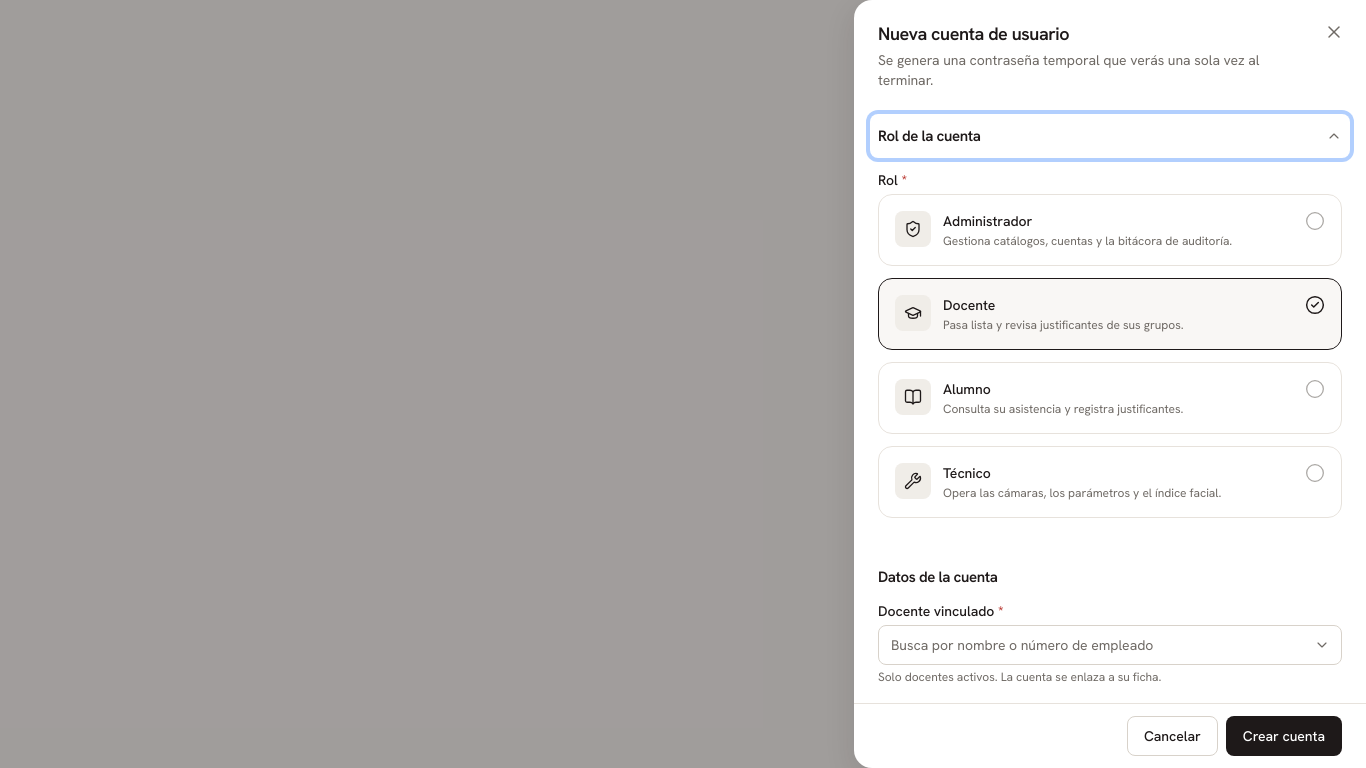
Scenario: CrearUsuarioDialog › cambiar a un rol sin vínculo oculta el selector y quita el correo sugerido
Click the dropdown at coordinates (1110, 644), box [878,624,1342,664]
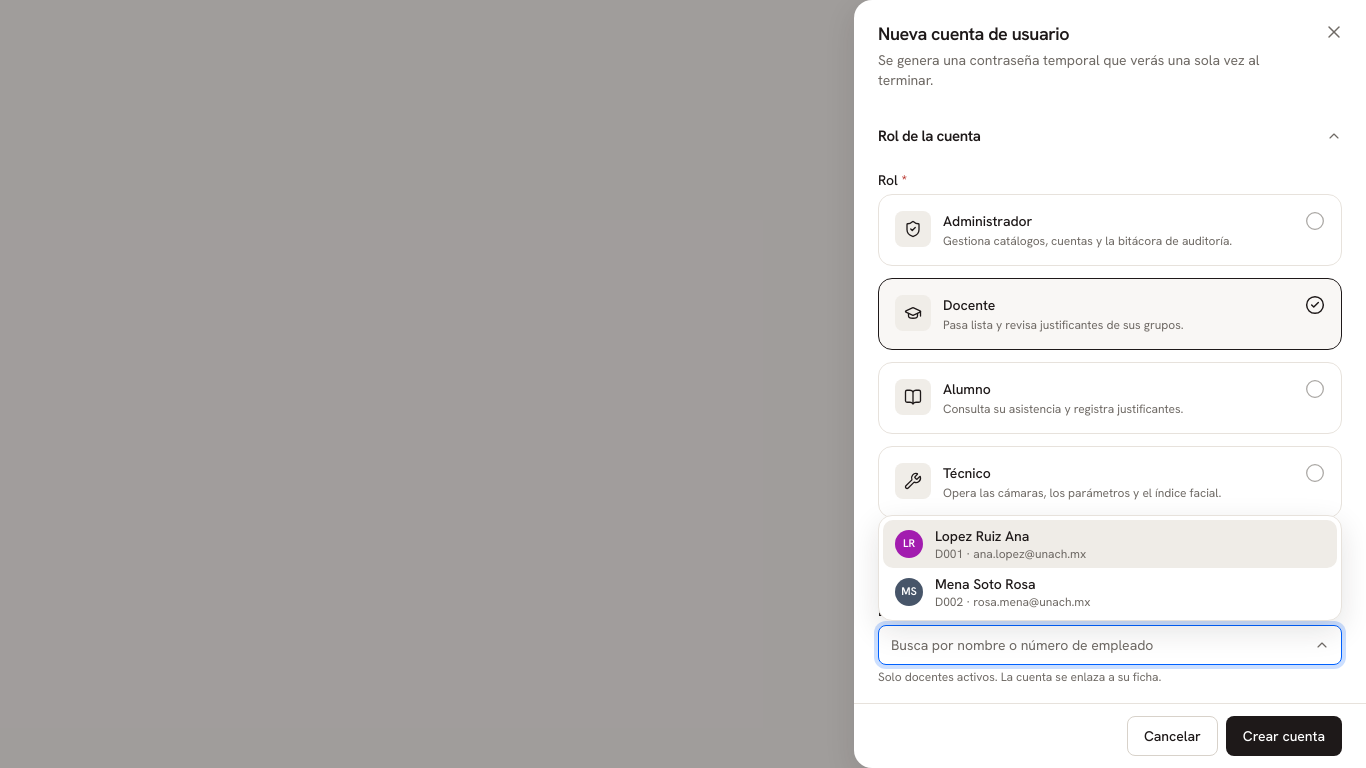
Click the option "LR Lopez Ruiz Ana D001 · ana.lopez@unach.mx" at coordinates (982, 536), box [883,520,1337,568]
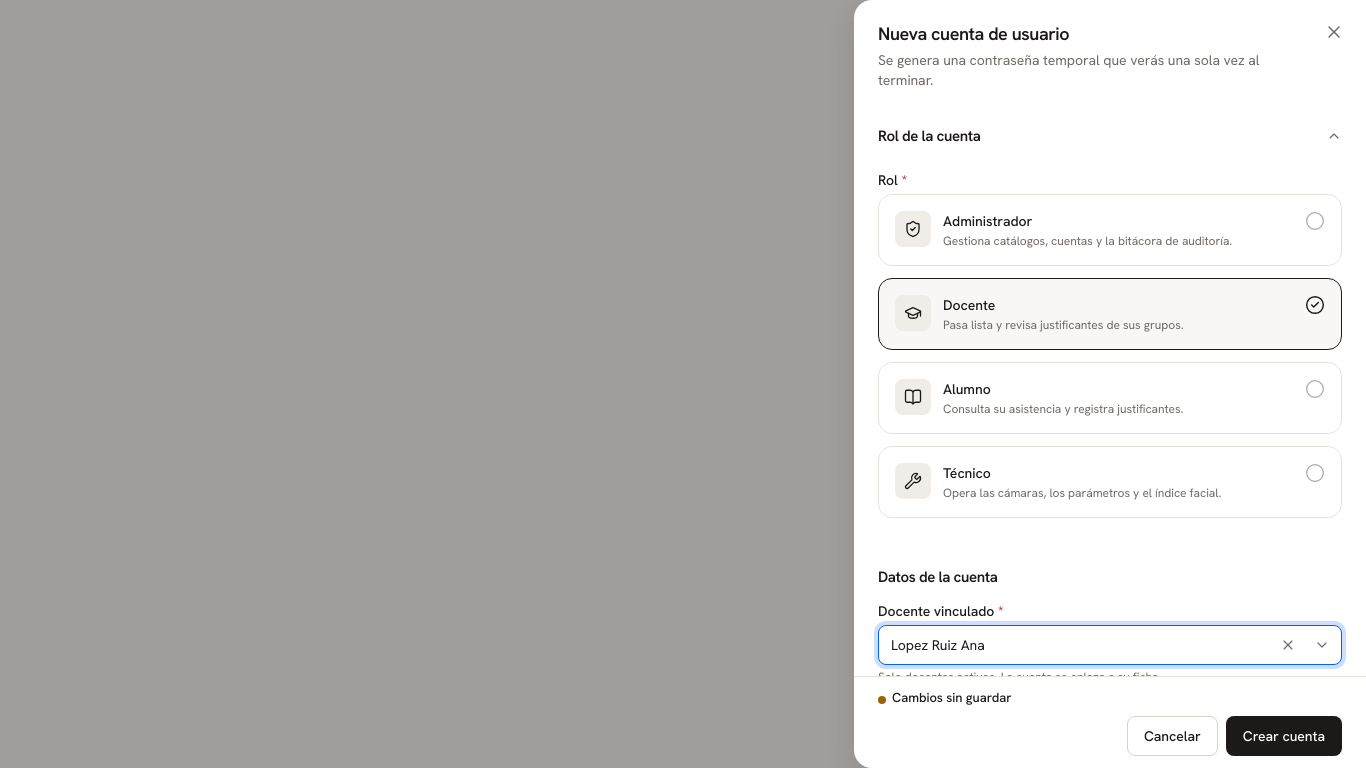
Click the radio button labelled "Técnico" at coordinates (1110, 482), box [895,463,1325,501]
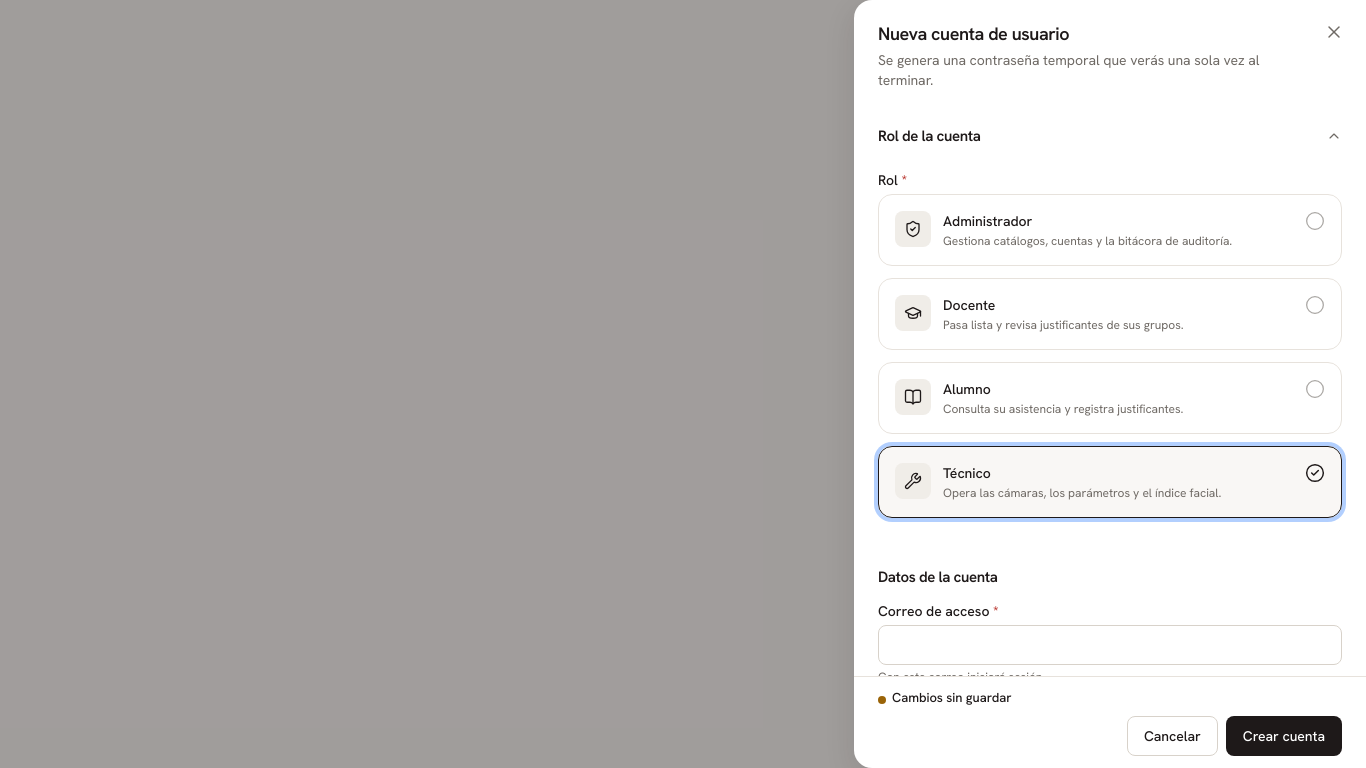
expect the dropdown is gone: met
expect the field labelled "Correo de acceso *" is empty: met, box [878,624,1342,664]
